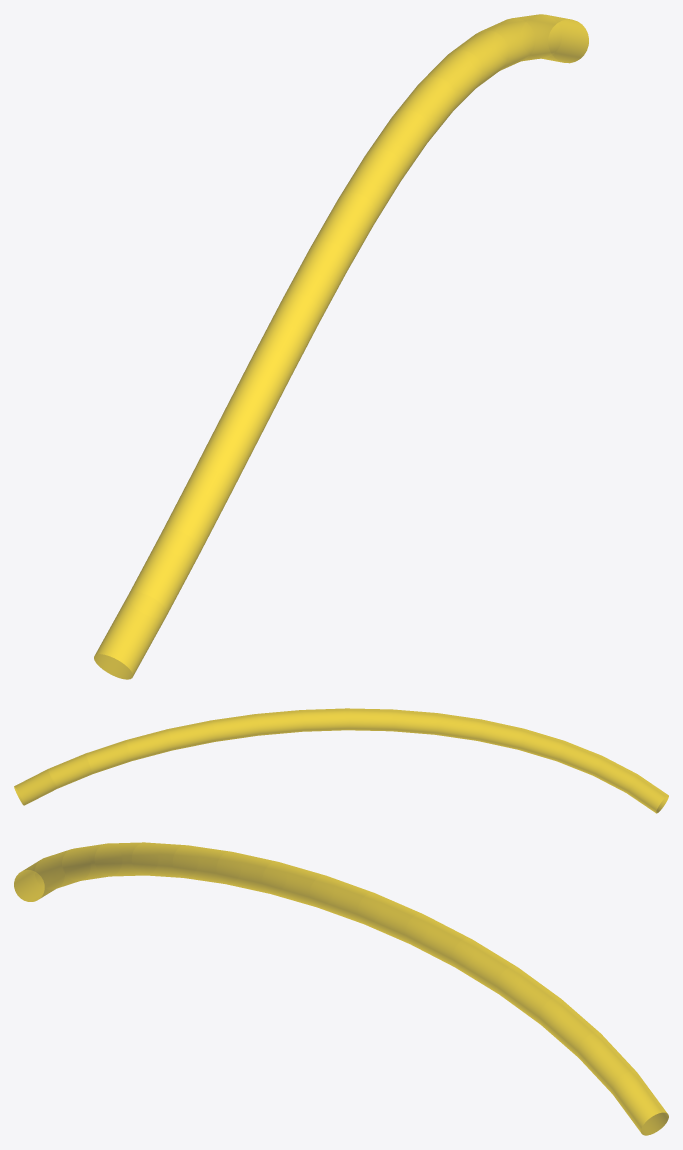
Rendered from Event_40932208_track_23.fbx.
The picture shows the model from 3 angles, top to bottom: view 1: azimuth 30°, elevation 25°; view 2: azimuth 150°, elevation 25°; view 3: azimuth 270°, elevation 25°; orthographic projection. The views are drawn at different scales.
Parts seen in each view (by area): view 1: Model; view 2: Model; view 3: Model.
Part boxes in pixels (bbox=[...]): Model: bbox=[94, 14, 588, 679]; Model: bbox=[14, 708, 668, 813]; Model: bbox=[14, 842, 668, 1135].
Size of the model in its own units: 0.9403 by 0.2491 by 0.7904.
